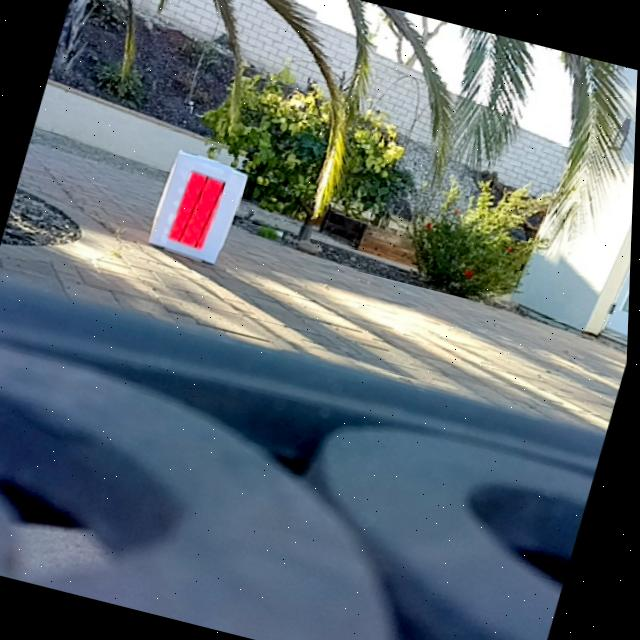led: (171, 167, 229, 253)
